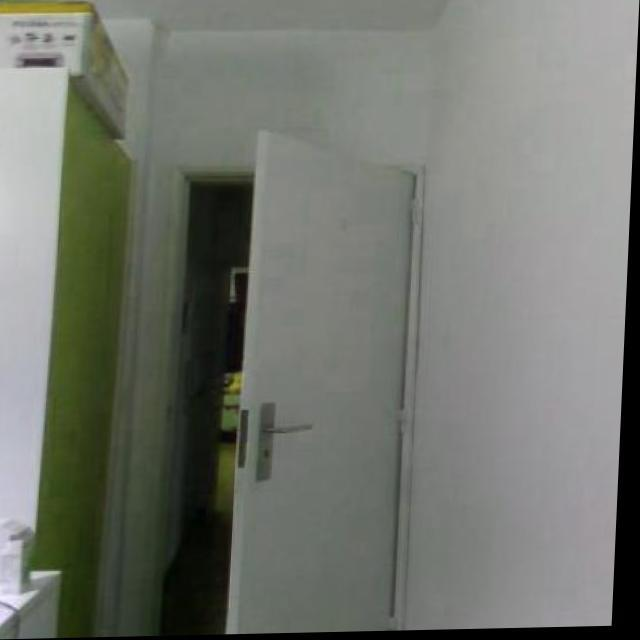door_handle: (258, 417, 325, 441)
